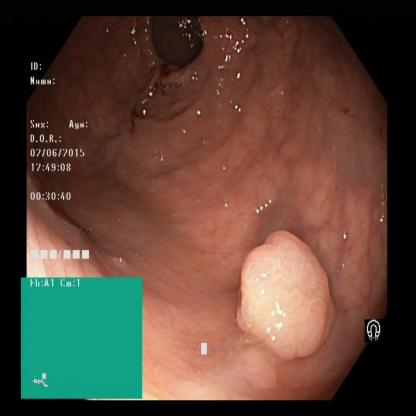Labels: (26, 56, 111, 276), (20, 279, 144, 398), (360, 314, 390, 352)
Polyps: (237, 230, 338, 366)
